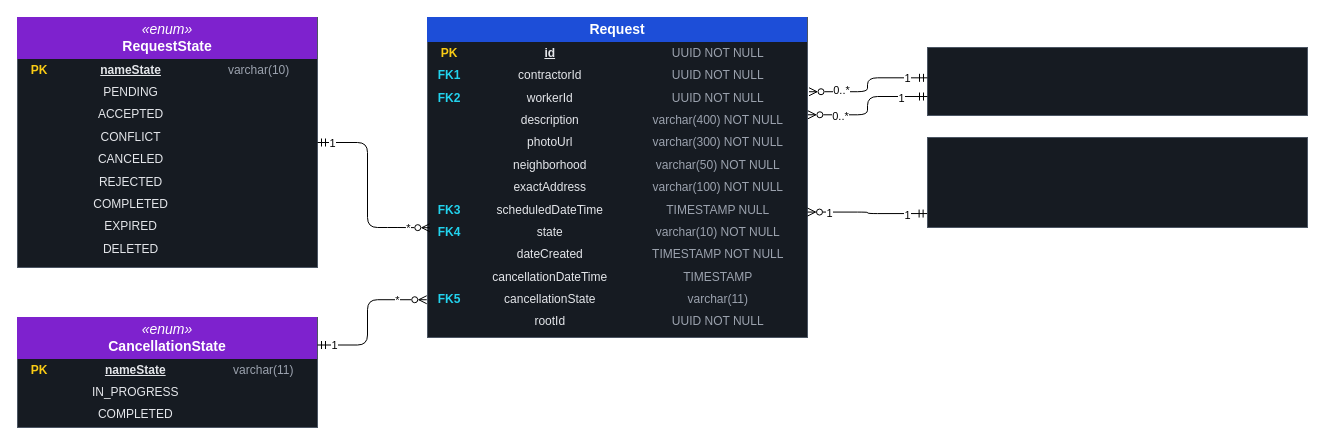
Image size: 1325x445. Some labels were removed from this diagram. The centre of each missing label's shape, as x and y in pixels:
«dominio Usuario» User PK id UUID NOT NULL: the point at 1117,81
«dominio Usuario» Worker PK id UUID NOT NULL timeSlot TIMESTAMP: the point at 1117,182
